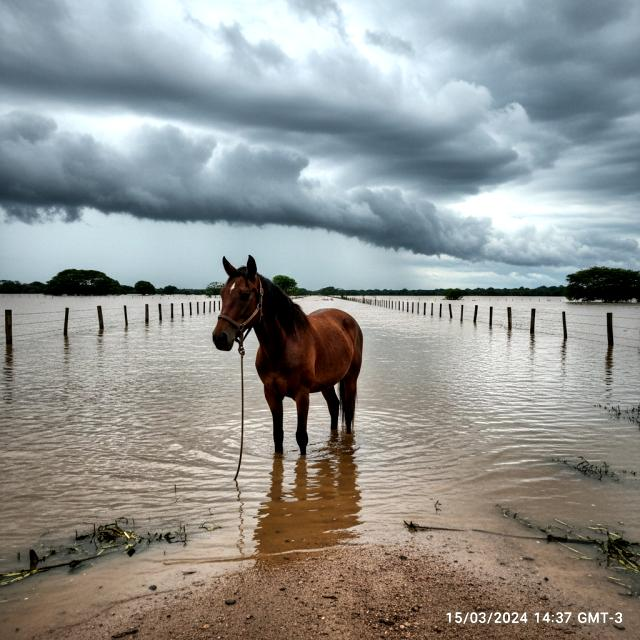horse: (205, 252, 378, 470)
